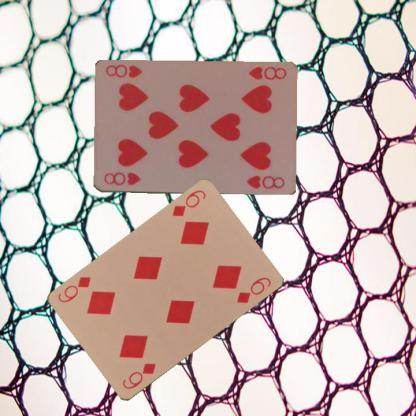6d: (170, 188, 208, 218), (120, 361, 157, 391)
8h: (246, 63, 287, 82), (101, 170, 142, 187)
